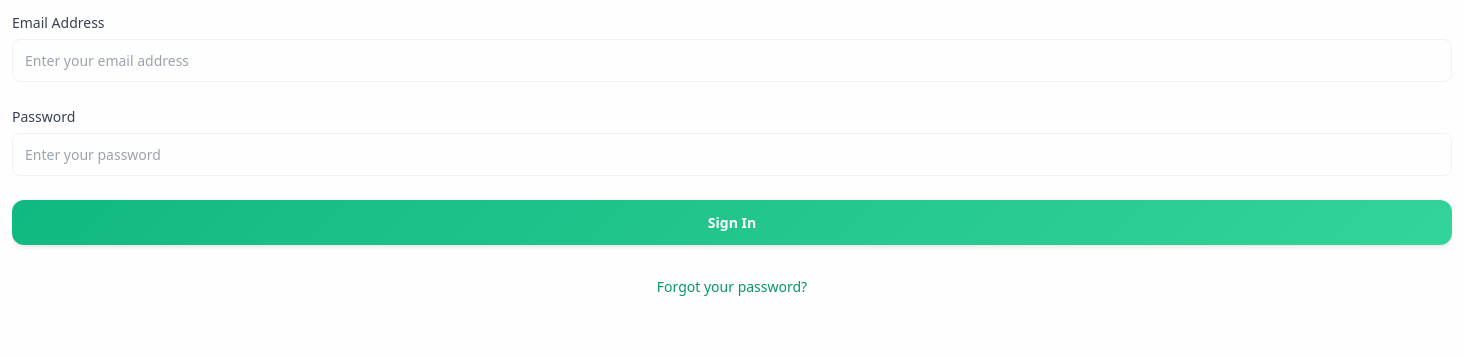
Test: Authentication Forms › SignInForm › Form Validation › shows validation errors for empty fields
The width and height of the screenshot is (1464, 357).
Click the button "Sign In": (732,222) [12, 200, 1452, 245]
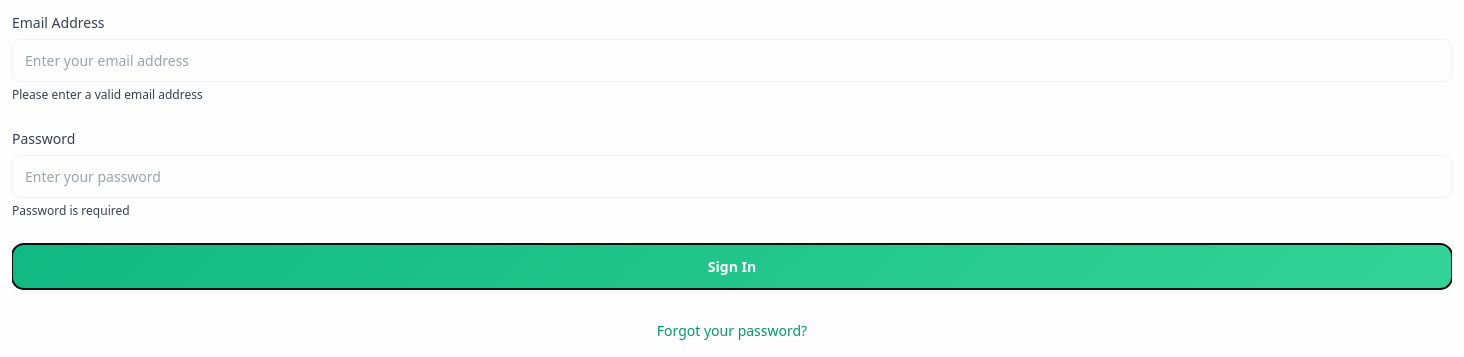
Now the text "Please enter a valid email address" is shown, box [12, 86, 203, 103]
Now the text "Password is required" is shown, box [12, 202, 130, 219]
